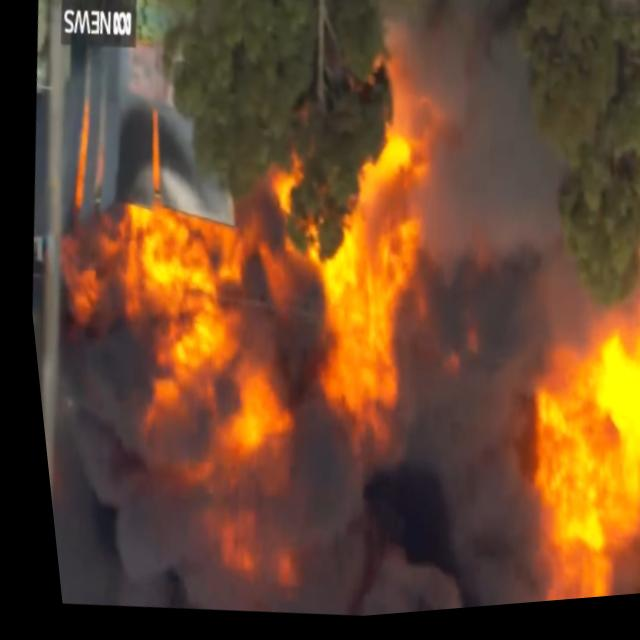Fire: (27, 162, 324, 608), (229, 111, 435, 451), (484, 228, 640, 610)
